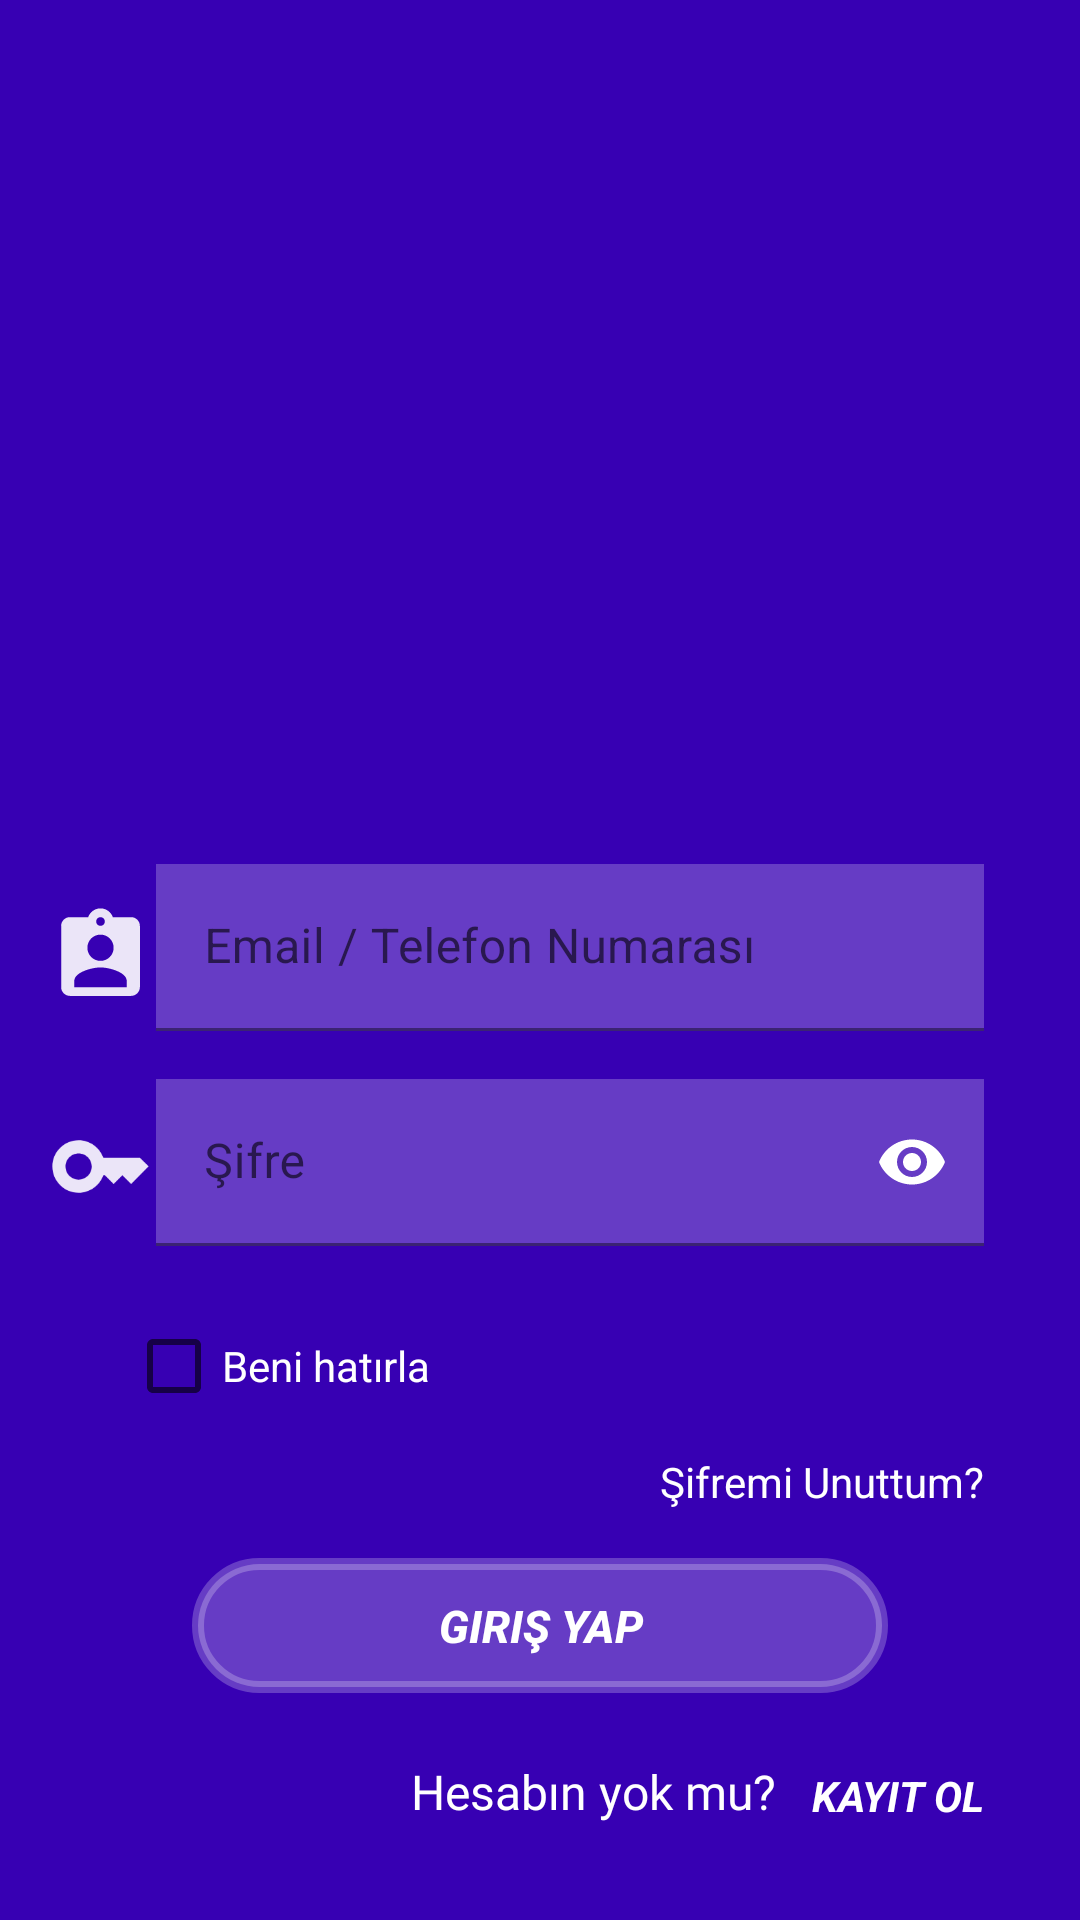

Screen size 1080×1920. Icon name, then its center in pixels as [x,y]:
key: [100,1166]
login person: [100,952]
